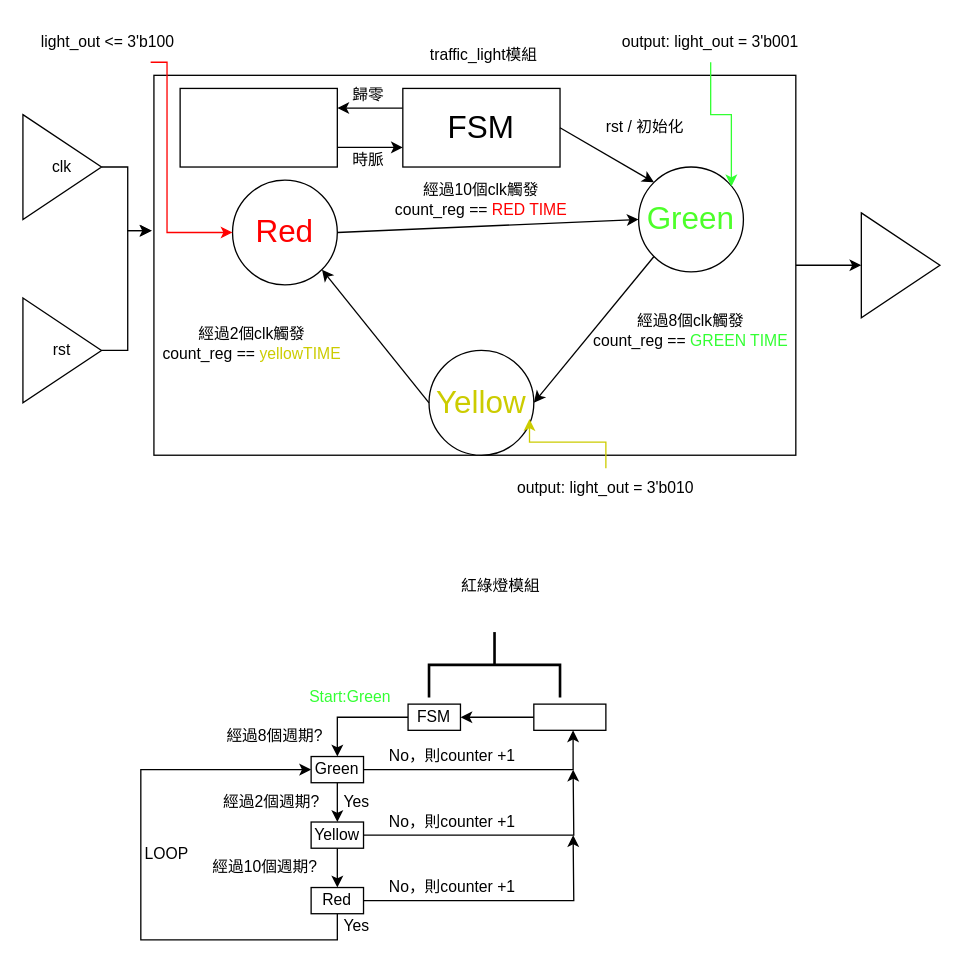
Image size: 963x973. Some labels were removed from this diagram. Here are the shapes that lost their labels. From the top down, the centre of each, then its label:
At (258,127): "Counter (count_reg)".
At (900,265): "light_out".
At (494,664): "rst/初始化".
At (569,716): "Counter".
